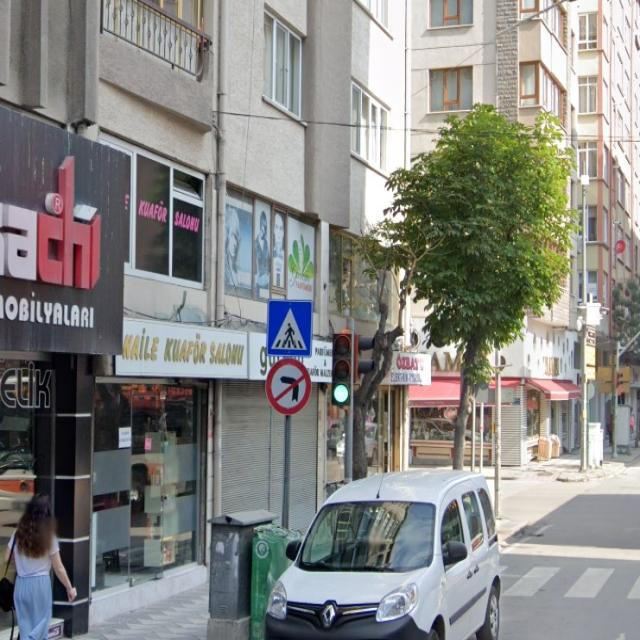soladonulmez: (266, 358, 311, 416)
yesil: (331, 334, 352, 407)
